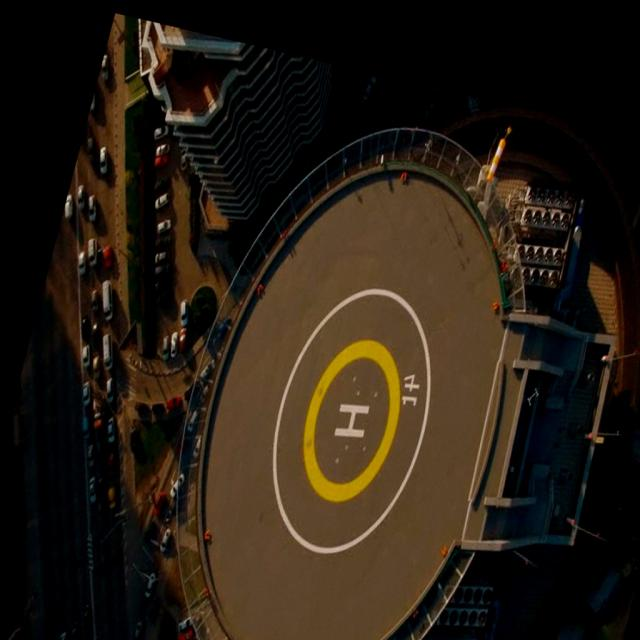helipad: (299, 334, 401, 504)
